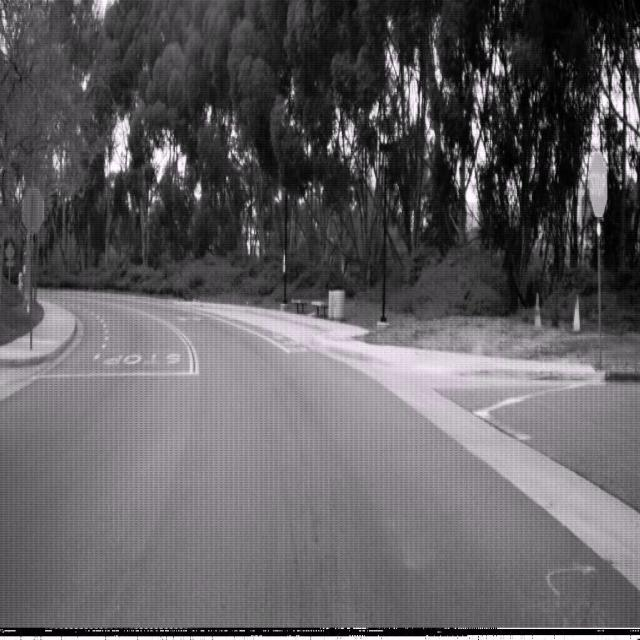stop_sign: (589, 150, 608, 218)
